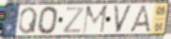A: (129, 4, 151, 34)
M: (81, 4, 109, 35)
O: (37, 5, 60, 36)
Q: (18, 6, 39, 35)
V: (112, 4, 134, 35)
Z: (61, 6, 85, 34)
